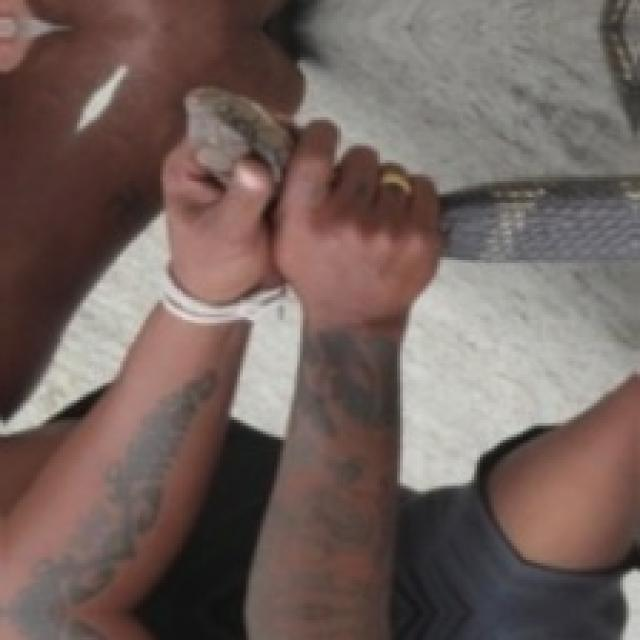king cobra: (440, 177, 637, 257), (186, 89, 274, 171)
